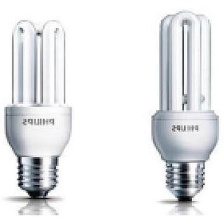light_bulb: (149, 7, 221, 204), (1, 12, 75, 203)
